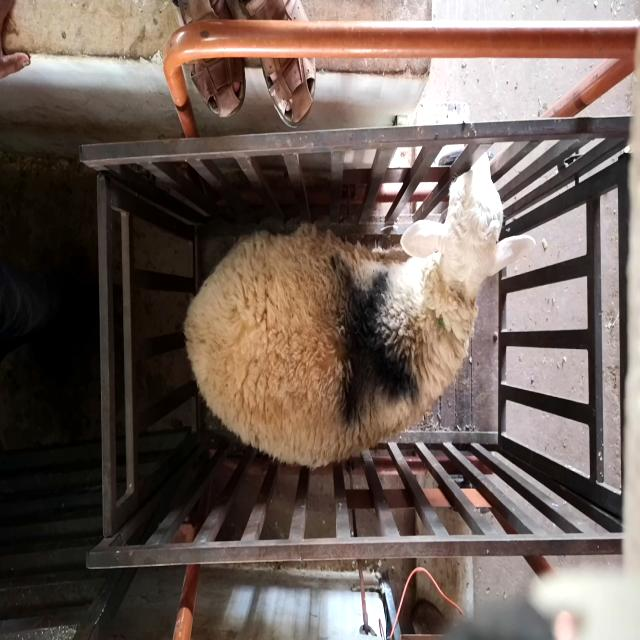sheep: (184, 149, 538, 470)
